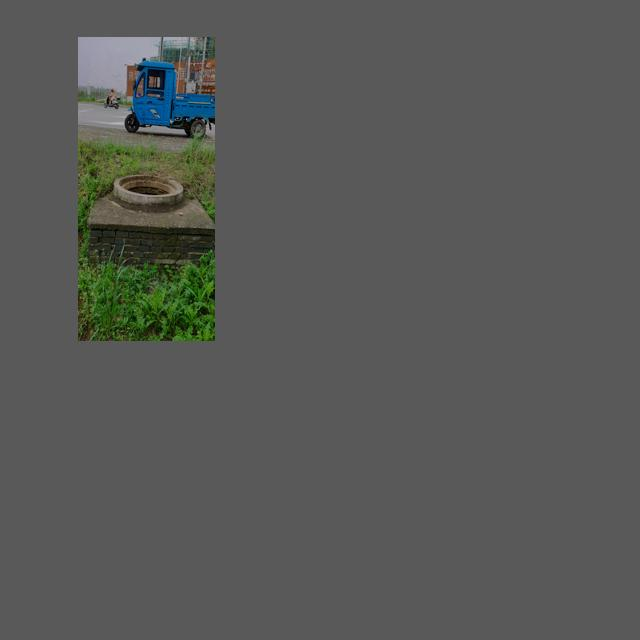lose: (114, 172, 183, 204)
